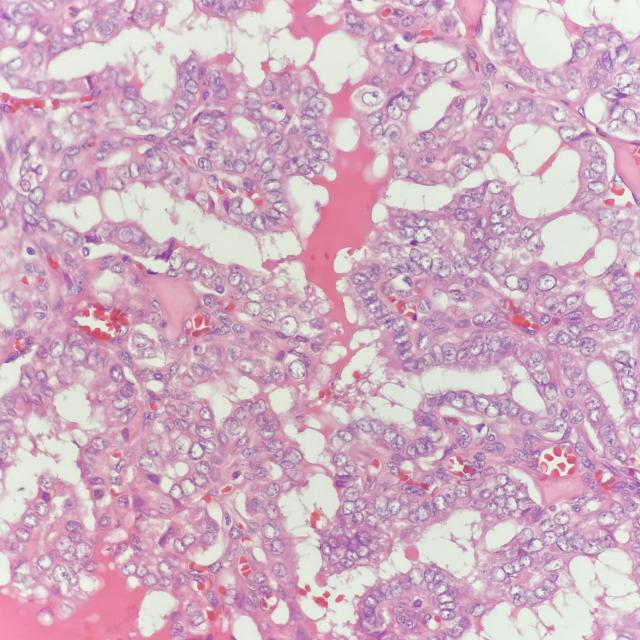TC: (227, 191, 260, 220), (274, 312, 303, 343), (284, 354, 312, 385), (185, 436, 212, 468), (134, 440, 174, 461), (45, 331, 71, 362), (406, 223, 438, 248), (190, 183, 214, 215), (195, 150, 221, 178), (127, 329, 157, 353), (180, 252, 205, 279), (412, 328, 433, 360), (480, 173, 508, 196), (455, 192, 485, 213), (351, 412, 376, 437), (412, 435, 437, 460), (240, 297, 263, 324), (245, 394, 272, 417), (225, 263, 247, 291), (534, 269, 558, 294), (219, 410, 242, 436), (324, 451, 354, 470), (452, 255, 476, 278), (193, 421, 219, 442), (246, 464, 278, 481), (464, 223, 488, 245), (232, 356, 257, 377), (172, 399, 193, 424), (379, 423, 400, 448), (456, 344, 474, 372), (482, 234, 507, 254), (501, 330, 519, 357), (357, 286, 381, 306), (105, 361, 126, 383), (105, 391, 130, 409), (384, 318, 412, 334), (474, 392, 490, 420), (491, 203, 514, 222), (526, 231, 542, 258), (263, 189, 288, 205), (443, 343, 457, 370), (264, 438, 286, 454), (349, 271, 368, 289), (470, 310, 487, 330), (520, 409, 536, 430), (384, 270, 405, 282)
